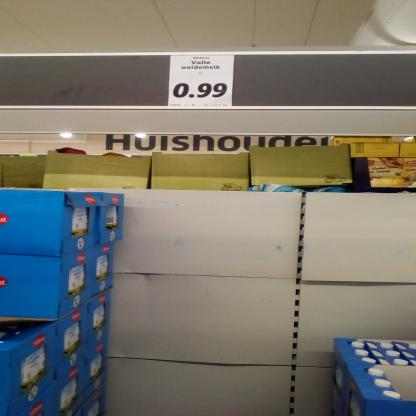prtg: (170, 56, 236, 107)
